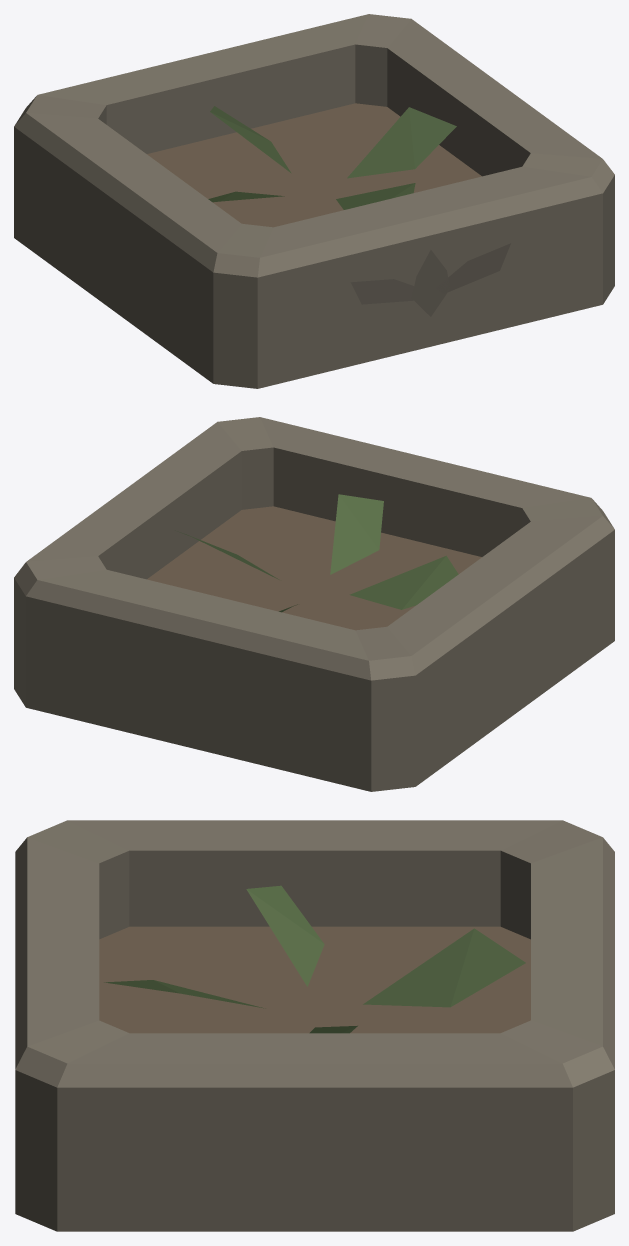
File: planter_stone_2m.glb
3 renders of one model, top to bottom at view 1: azimuth 30°, elevation 25°; view 2: azimuth 150°, elevation 25°; view 3: azimuth 270°, elevation 25°, orthographic. The views are drawn at different scales.
Visible parts, largest first — view 1: Body_planter_stone_2m.001; view 2: Body_planter_stone_2m.001; view 3: Body_planter_stone_2m.001.
Boxes of the visible parts, x1,y1,x2,y2 form: Body_planter_stone_2m.001: [14, 14, 614, 388]; Body_planter_stone_2m.001: [14, 417, 614, 791]; Body_planter_stone_2m.001: [15, 820, 614, 1231].
Size of the model in its own units: 2 by 0.6 by 2.
